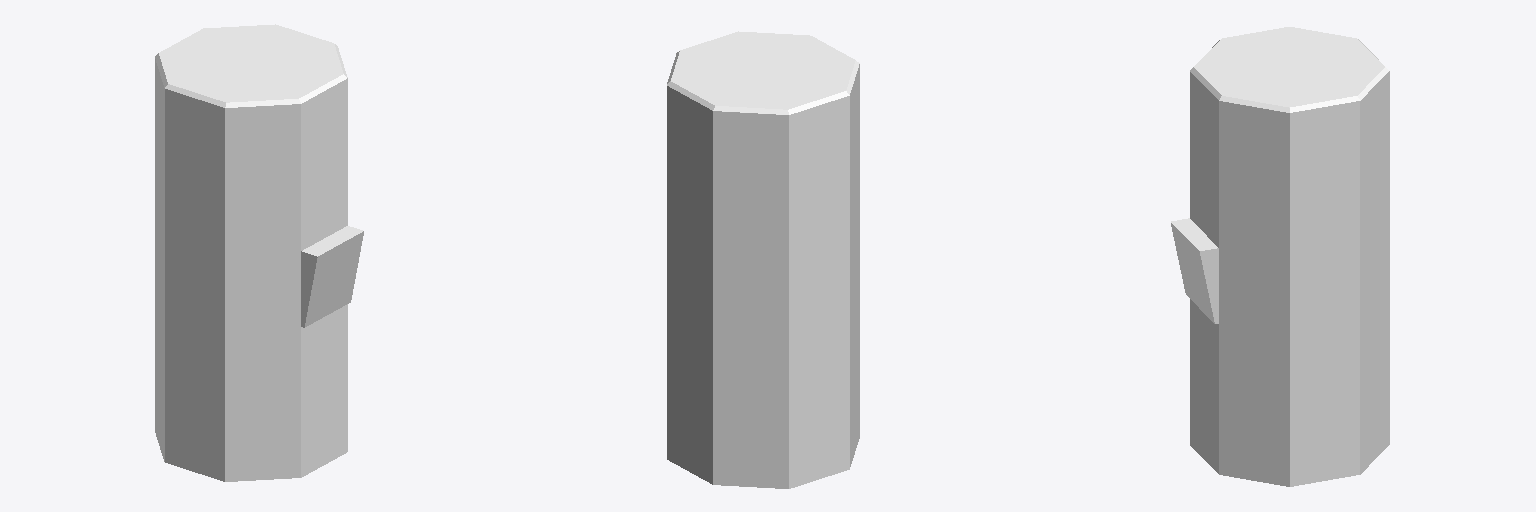
File: Grenade-Type-0-Grip.obj
The picture shows the model from 3 angles: view 1: azimuth 30°, elevation 25°; view 2: azimuth 150°, elevation 25°; view 3: azimuth 270°, elevation 25°; orthographic projection.
Visible parts, largest first — view 1: Grenade-Type-0-Grip; view 2: Grenade-Type-0-Grip; view 3: Grenade-Type-0-Grip.
Part boxes in pixels (left/top/right/bottom): Grenade-Type-0-Grip: left=155, top=24, right=363, bottom=481; Grenade-Type-0-Grip: left=667, top=31, right=859, bottom=488; Grenade-Type-0-Grip: left=1171, top=27, right=1389, bottom=486.
Bounding box in the file's own units: 0.24 × 0.5 × 0.2631.